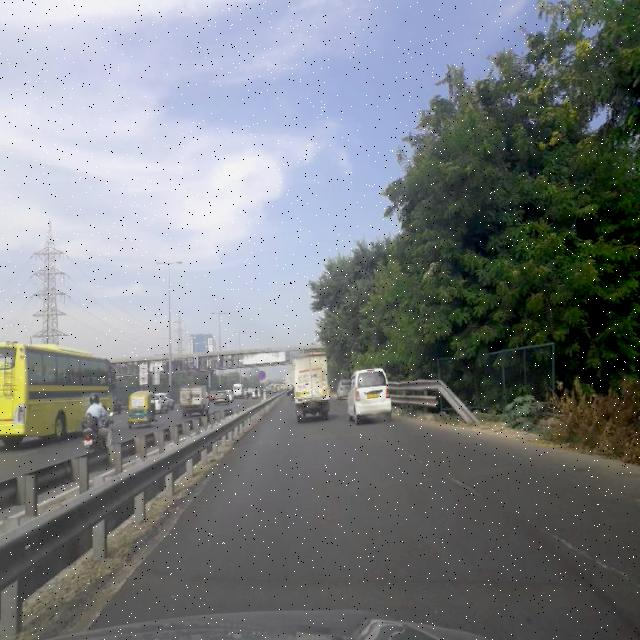D44: (538, 520, 626, 576)
